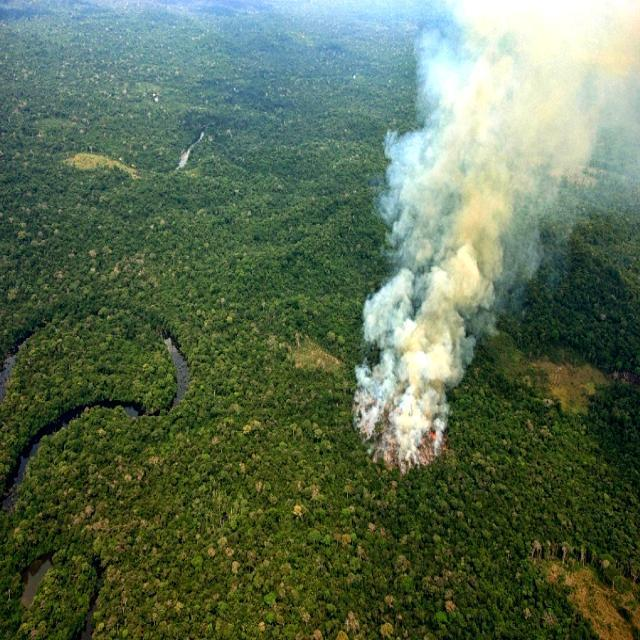Smoke: (342, 0, 640, 474)
